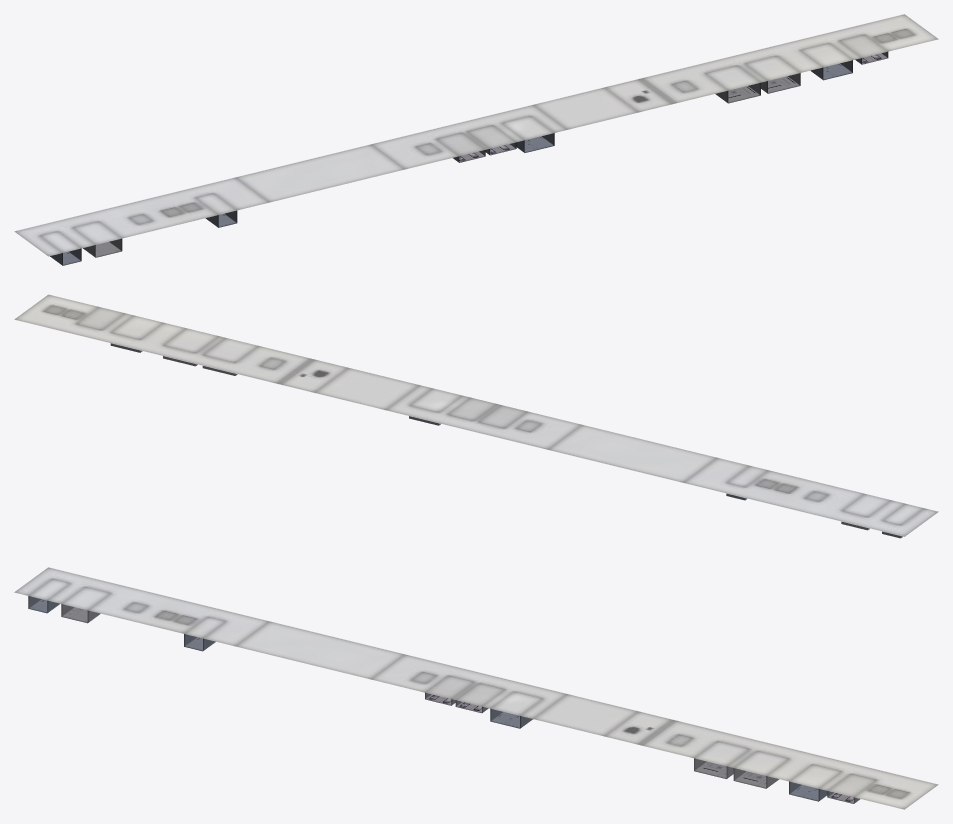
The model's file is murhaut_centre_bab.fbx.
3 renders of one model, top to bottom at view 1: azimuth 30°, elevation 25°; view 2: azimuth 150°, elevation 25°; view 3: azimuth 330°, elevation 25°, orthographic.
Visible parts, largest first — view 1: ShapeIndexedFaceSet_005, ShapeIndexedFaceSet, ShapeIndexedFaceSet_001; view 2: ShapeIndexedFaceSet_005; view 3: ShapeIndexedFaceSet_005, ShapeIndexedFaceSet, ShapeIndexedFaceSet_001.
Boxes of the visible parts, bbox=[...] form: ShapeIndexedFaceSet_005: bbox=[14, 14, 938, 256]; ShapeIndexedFaceSet: bbox=[83, 51, 888, 257]; ShapeIndexedFaceSet_001: bbox=[50, 60, 852, 265]; ShapeIndexedFaceSet_005: bbox=[14, 294, 938, 536]; ShapeIndexedFaceSet_005: bbox=[14, 567, 938, 809]; ShapeIndexedFaceSet: bbox=[61, 604, 860, 803]; ShapeIndexedFaceSet_001: bbox=[28, 596, 827, 801].
Bounding box in the file's own units: 43.36 × 0.6 × 2.9.
